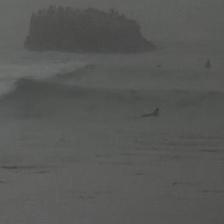surfer: (142, 107, 160, 118), (204, 60, 212, 69), (156, 63, 163, 69)
